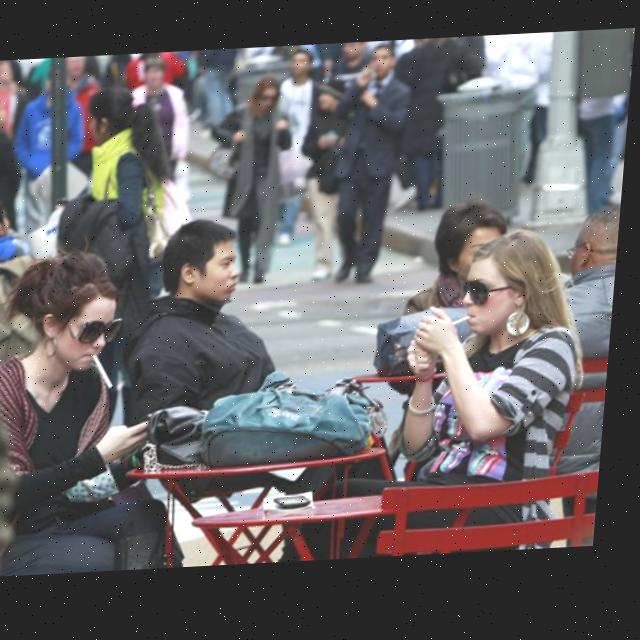cigarette: (97, 356, 122, 392), (457, 322, 477, 330)
